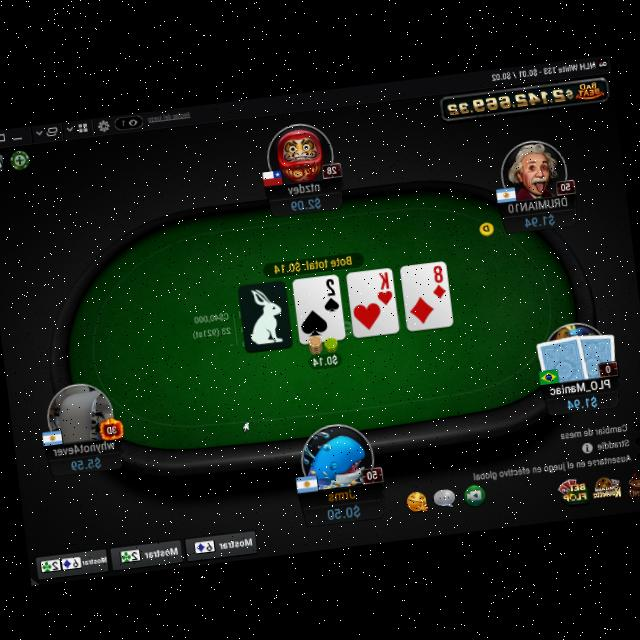2s: (319, 276, 341, 314)
8d: (428, 262, 447, 300)
Kh: (373, 268, 394, 308)
bet_text: (310, 352, 338, 368)
card_back: (534, 330, 588, 384), (572, 326, 620, 378)
dealer: (476, 218, 496, 236)
pot_text: (270, 253, 354, 276)
stack_text: (324, 501, 363, 522), (288, 194, 323, 213), (68, 453, 103, 472), (522, 210, 555, 228), (565, 392, 596, 408)
